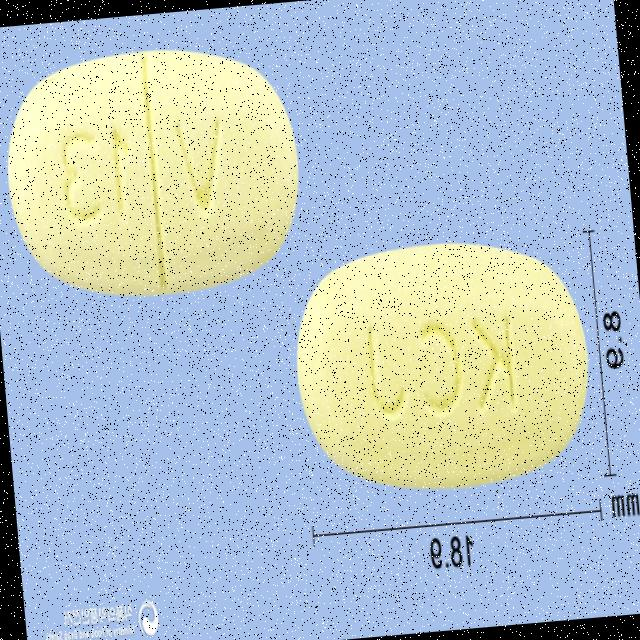Retami Tab: (286, 228, 598, 502), (0, 34, 309, 307)
